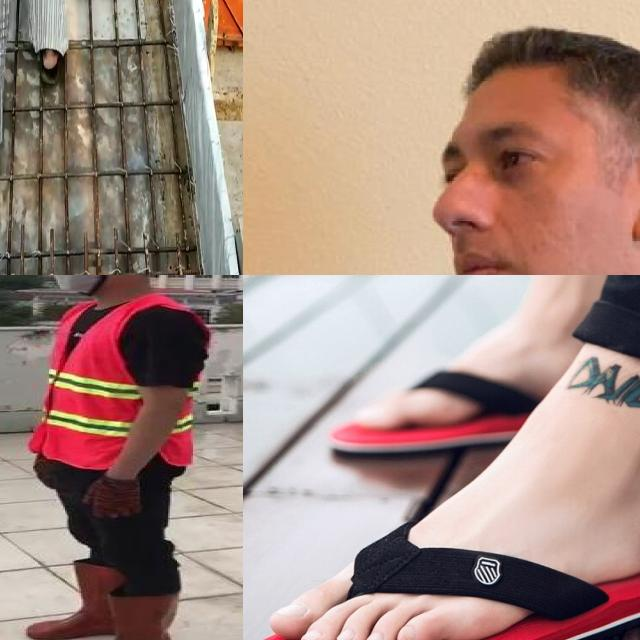No_Glasses: (433, 113, 566, 191)
Sandals: (250, 478, 640, 640)
boots: (27, 561, 125, 640), (59, 592, 177, 640)
face_mask: (43, 275, 107, 296)
hand_glove: (83, 479, 141, 518)
person: (5, 275, 220, 640)
vest: (33, 304, 207, 471)
